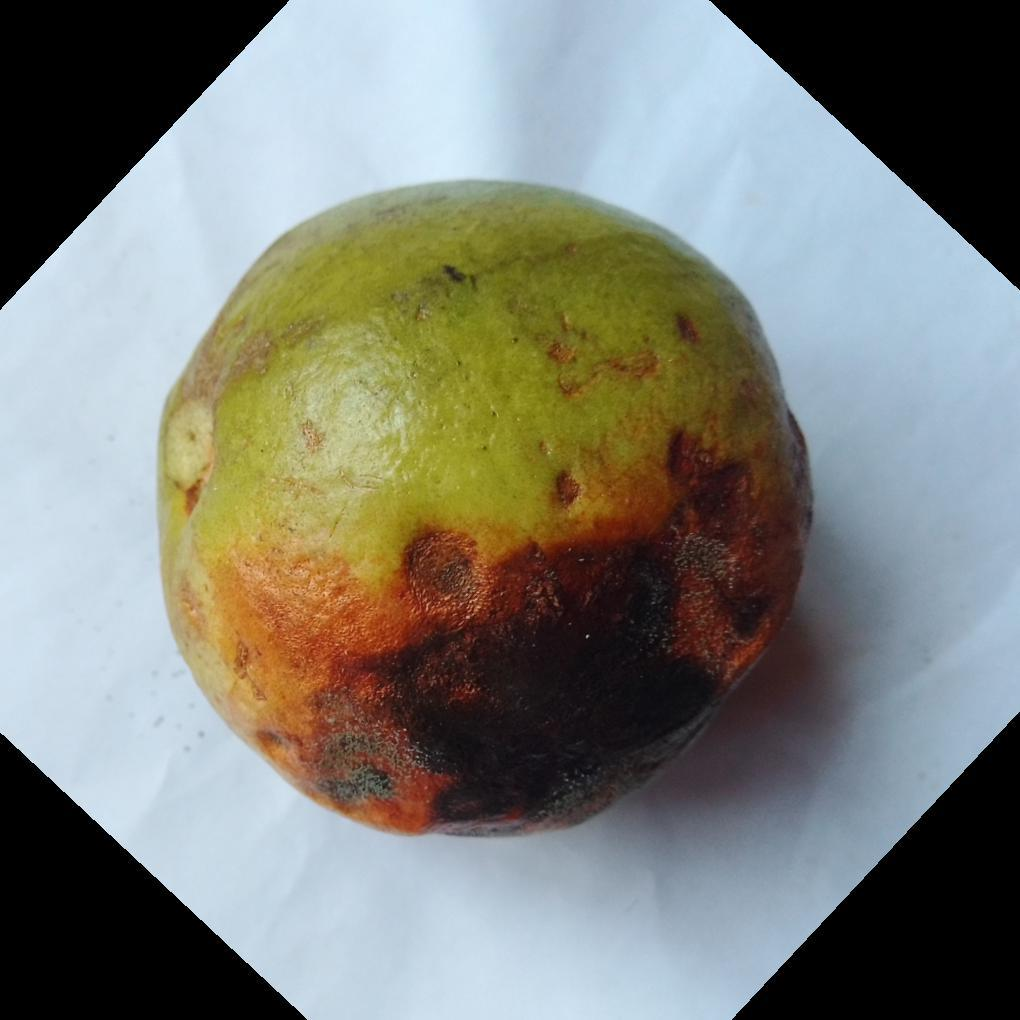FreshGuava: (154, 181, 815, 843)
FreshOrange: (154, 181, 815, 843)
